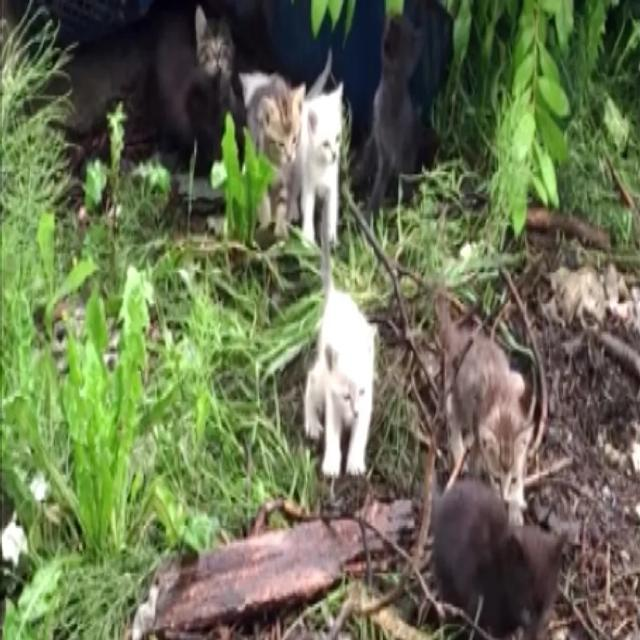cat: (436, 300, 535, 524), (432, 480, 565, 638), (305, 192, 375, 478), (370, 18, 436, 210), (240, 72, 305, 238), (298, 82, 342, 242), (195, 5, 234, 80)
